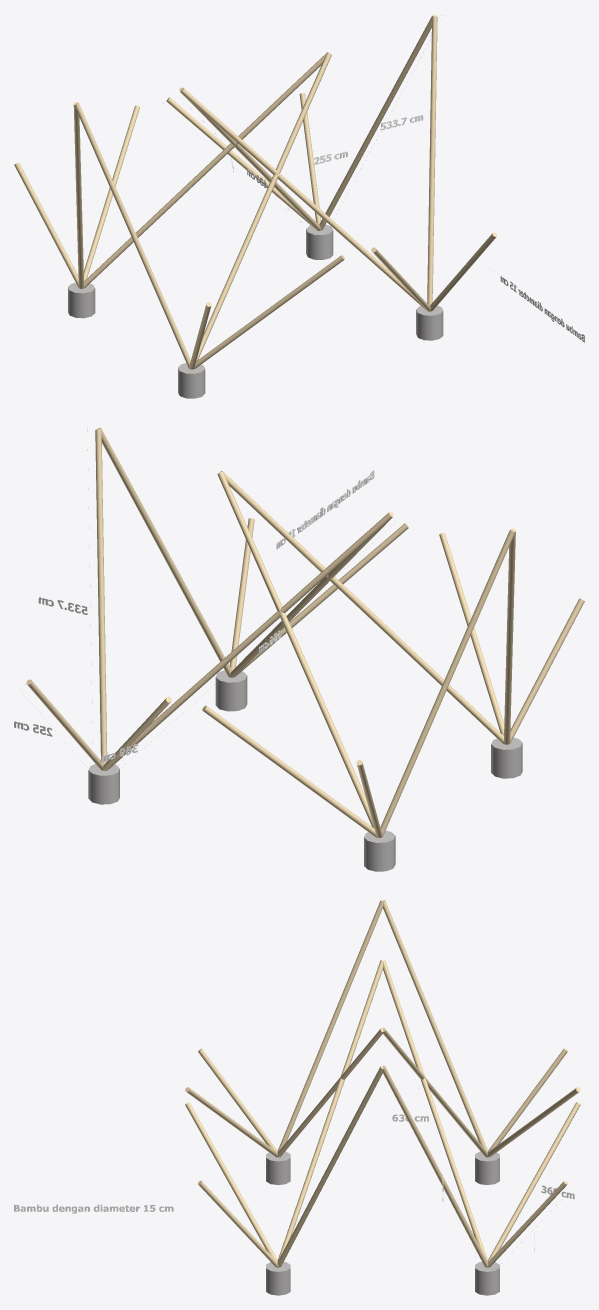
The picture shows the model from 3 angles, top to bottom: view 1: azimuth 30°, elevation 25°; view 2: azimuth 150°, elevation 25°; view 3: azimuth 270°, elevation 25°; orthographic projection. The views are drawn at different scales.
Parts seen in each view (by area): view 1: Group4, Group3, Group1, Bambu_dengan_dia1; view 2: Group4, Group3, Group1, Bambu_dengan_dia1; view 3: Group4, Group3, Group1, Bambu_dengan_dia1.
Part boxes in pixels (x1,y1,x2,y2): Group4: [83, 52, 430, 368]; Group3: [14, 14, 497, 369]; Group1: [68, 224, 443, 398]; Bambu_dengan_dia1: [500, 276, 584, 342]; Group4: [103, 471, 504, 837]; Group3: [26, 427, 584, 837]; Group1: [88, 670, 522, 871]; Bambu_dengan_dia1: [276, 470, 374, 549]; Group4: [185, 960, 580, 1261]; Group3: [198, 900, 567, 1267]; Group1: [266, 1151, 499, 1295]; Bambu_dengan_dia1: [14, 1204, 173, 1213].
Size of the model in its own units: 799 by 531 by 1092.
